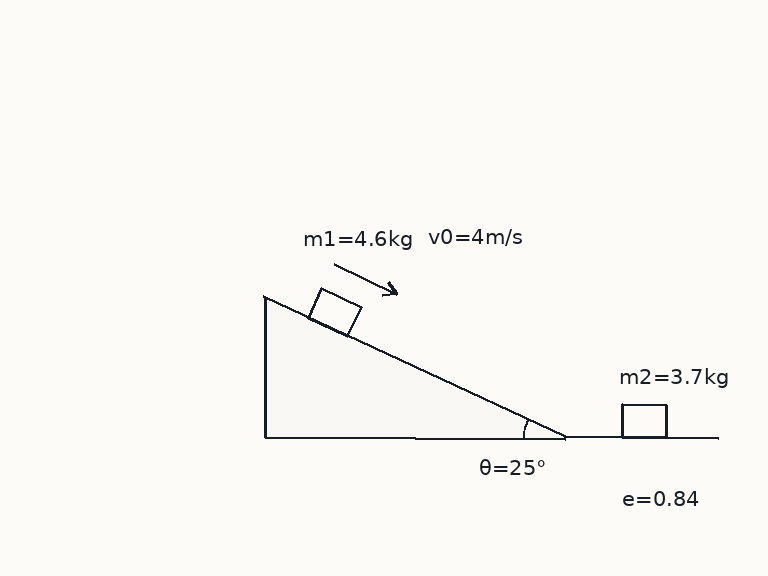block: (305, 286, 363, 338), (620, 403, 668, 439)
ramp: (262, 295, 566, 439)
